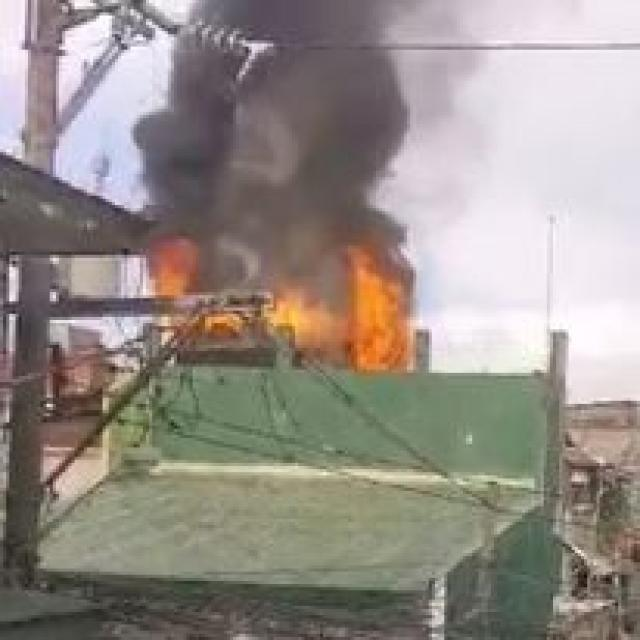Fire: (345, 236, 414, 373), (169, 305, 344, 354), (143, 224, 202, 297)
Smoke: (131, 0, 419, 319)
